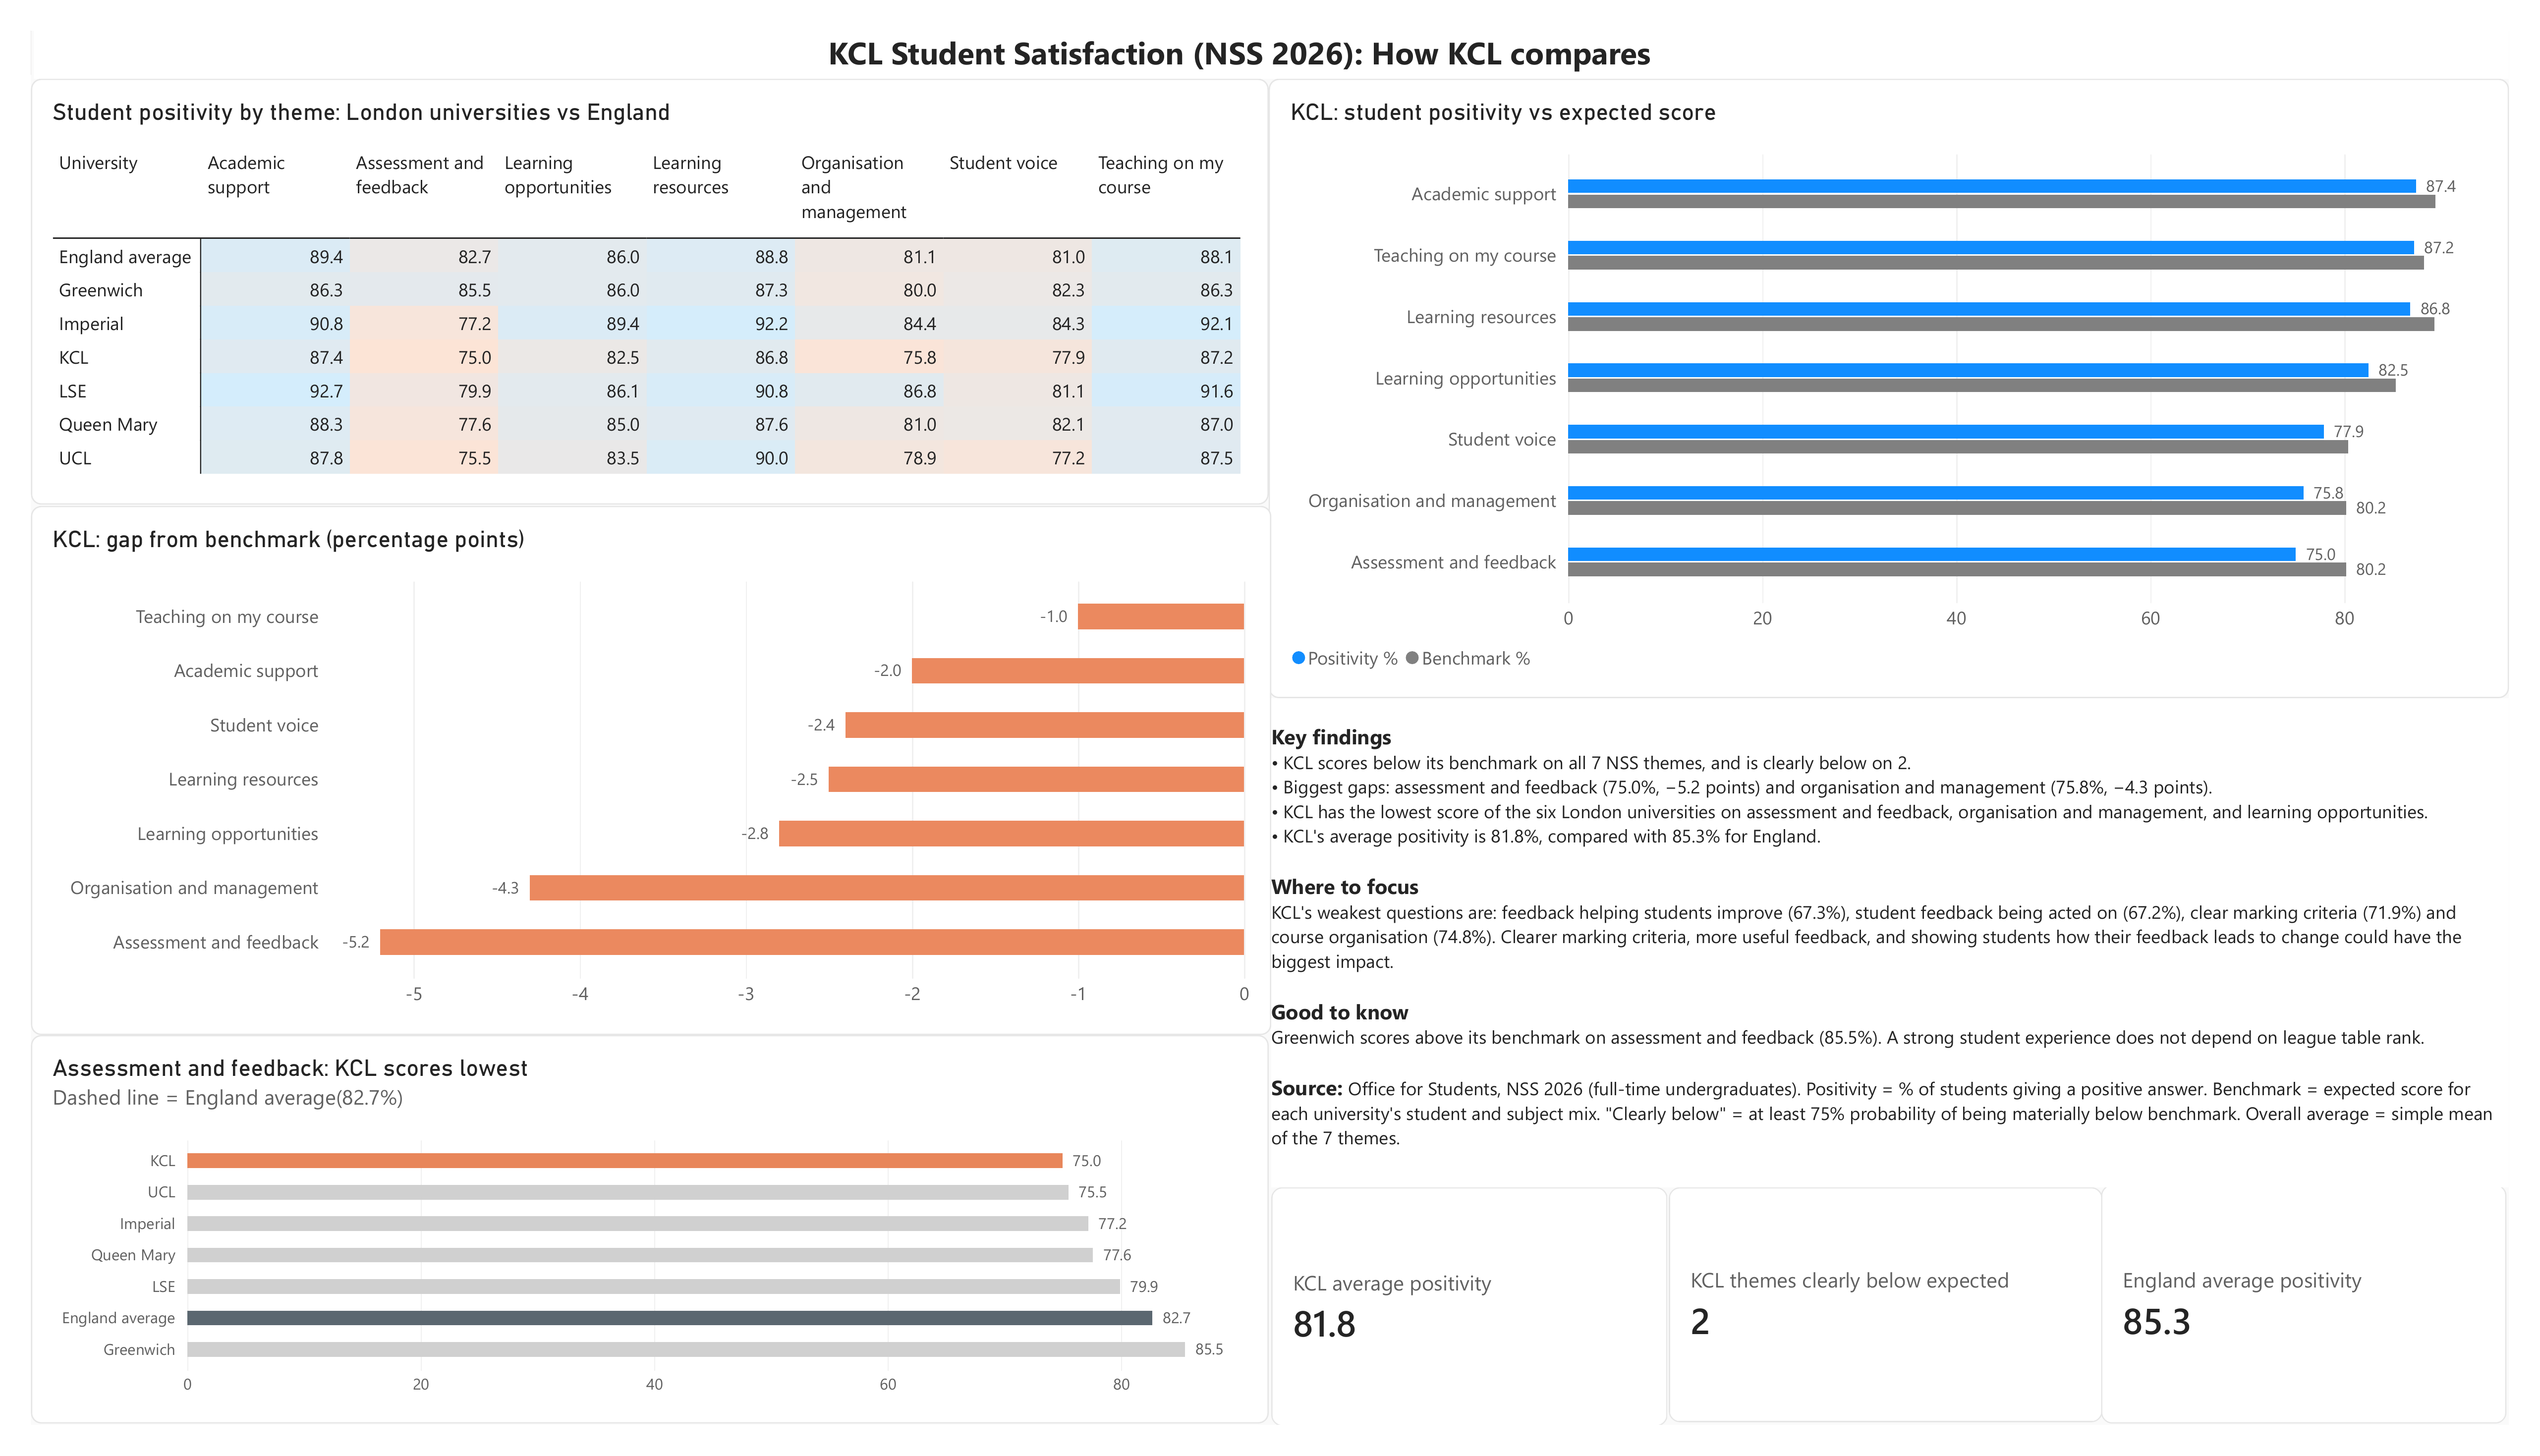

What the dashboard file says about the page in this screenshot:
{"tool":"powerbi","page":{"name":"Page 1","canvas":[1920,1080],"ordinal":0},"visuals":[{"type":"clusteredBarChart","title":"KCL: student positivity vs expected score","fields":{"Category":["NSS.Short name"],"Y":["NSS.Positivity %","NSS.Benchmark %"]},"box":[958.9,37.3,960.8,479.5],"z":0},{"type":"clusteredBarChart","title":"KCL: gap from benchmark (percentage points)","fields":{"Category":["NSS.Short name"],"Y":["NSS.Difference vs Benchmark"]},"box":[0,367.5,960.8,410.4],"z":1},{"type":"pivotTable","title":"Student positivity by theme: London universities vs England","fields":{"Columns":["NSS.Short name"],"Rows":["NSS.University"],"Values":["NSS.Positivity %"]},"box":[0,37.3,958.7,330],"z":2},{"type":"cardVisual","fields":{"Data":["NSS.KCL Themes Below Benchmark"]},"box":[1268.6,895.5,336.7,182.8],"z":3},{"type":"cardVisual","fields":{"Data":["NSS.Positivity %"]},"box":[960.8,895.5,307.7,185.1],"z":5},{"type":"cardVisual","fields":{"Data":["NSS.Positivity %"]},"box":[1604.4,893.6,314.4,185.1],"z":6},{"type":"clusteredBarChart","title":"Assessment and feedback: KCL scores lowest","fields":{"Category":["NSS.University"],"Y":["NSS.Positivity %"]},"box":[0,778.1,958.7,301],"z":8},{"type":"textbox","box":[960.8,516.8,958.9,378.7],"z":9},{"type":"textbox","box":[1.9,0,1917.9,37.3],"z":10}]}

Visuals, with their boxes in screenshot pixels (x1, y1, x2, y2), scaled from the page's 1920x1080 canvas onto the 2540x1456 screenshot:
"KCL: student positivity vs expected score" clusteredBarChart: Rect(1269, 50, 2540, 697)
"KCL: gap from benchmark (percentage points)" clusteredBarChart: Rect(0, 496, 1271, 1049)
"Student positivity by theme: London universities vs England" pivotTable: Rect(0, 50, 1268, 495)
cardVisual - NSS.KCL Themes Below Benchmark: Rect(1678, 1207, 2124, 1454)
cardVisual - NSS.Positivity %: Rect(1271, 1207, 1678, 1456)
cardVisual - NSS.Positivity %: Rect(2123, 1205, 2539, 1454)
"Assessment and feedback: KCL scores lowest" clusteredBarChart: Rect(0, 1049, 1268, 1455)
textbox: Rect(1271, 697, 2540, 1207)
textbox: Rect(2, 0, 2540, 50)
